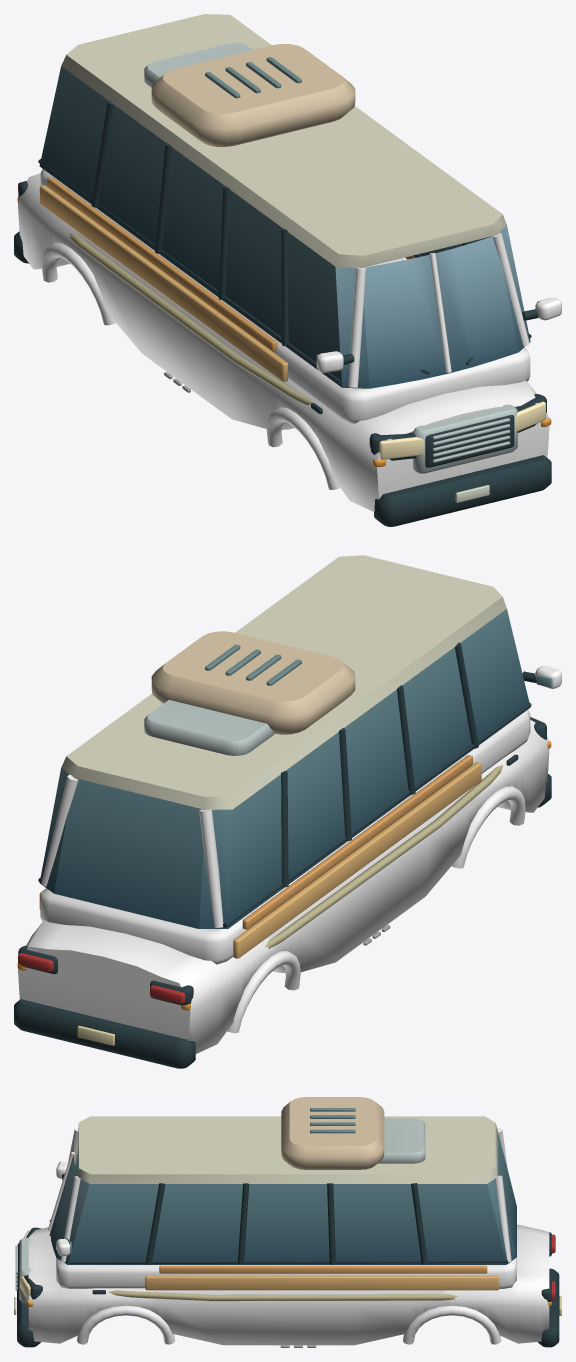
Rendered from switchback.glb.
3 renders of one model, top to bottom at view 1: azimuth 30°, elevation 25°; view 2: azimuth 150°, elevation 25°; view 3: azimuth 270°, elevation 25°, orthographic. The views are drawn at different scales.
Visible parts, largest first — view 1: Chassis, Headlamps; view 2: Chassis, BrakeLamps; view 3: Chassis.
Part boxes in pixels (left/top/right/bottom): Chassis: left=14, top=14, right=561, bottom=526; Headlamps: left=379, top=401, right=545, bottom=459; Chassis: left=14, top=555, right=561, bottom=1068; BrakeLamps: left=18, top=953, right=185, bottom=1003; Chassis: left=14, top=1097, right=561, bottom=1347.
Bounding box in the file's own units: 2.12 × 2.31 × 5.75.
